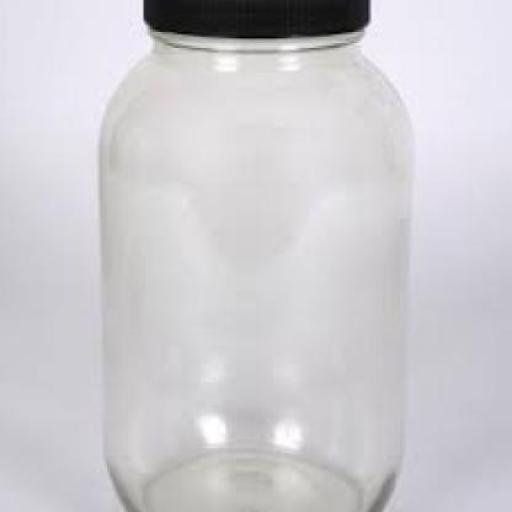glass: (97, 27, 410, 510)
plastic: (139, 0, 366, 43)
